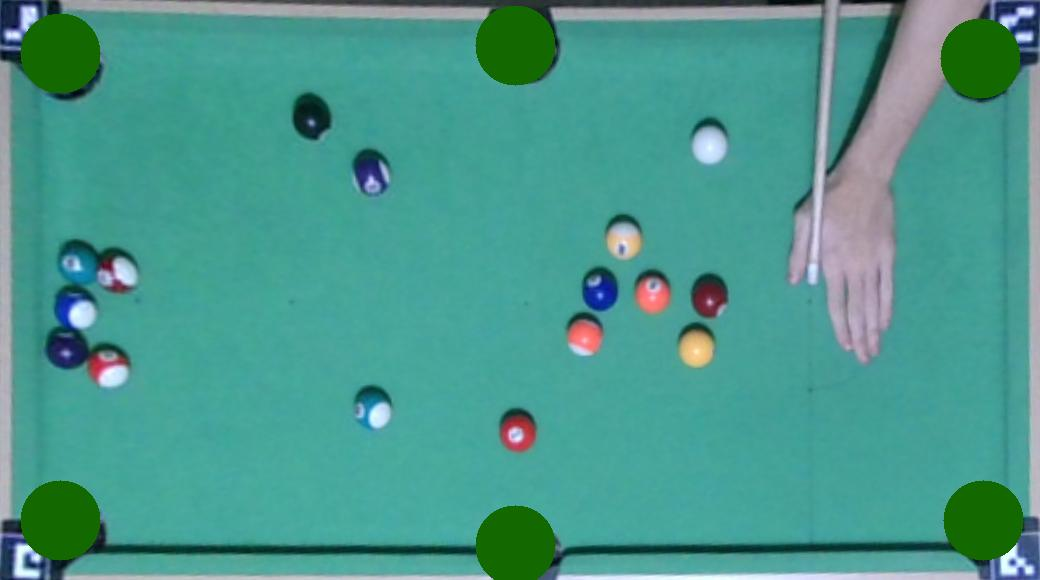Ball: (89, 348, 131, 390), (352, 389, 394, 430), (55, 289, 98, 329), (352, 152, 392, 194), (97, 252, 139, 292), (45, 330, 87, 368), (292, 97, 330, 138), (676, 328, 716, 366), (581, 269, 619, 309), (497, 414, 537, 452), (690, 126, 728, 166), (690, 278, 729, 316), (58, 243, 96, 281), (634, 274, 672, 312), (605, 222, 643, 258), (566, 320, 602, 357)
